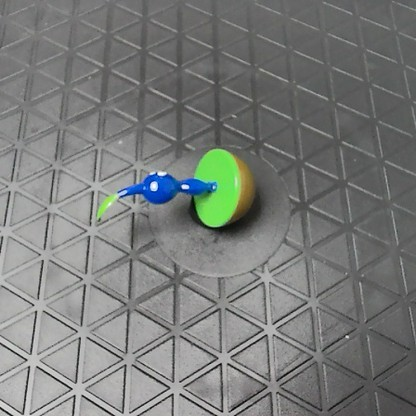leafairy: (92, 136, 256, 233)
